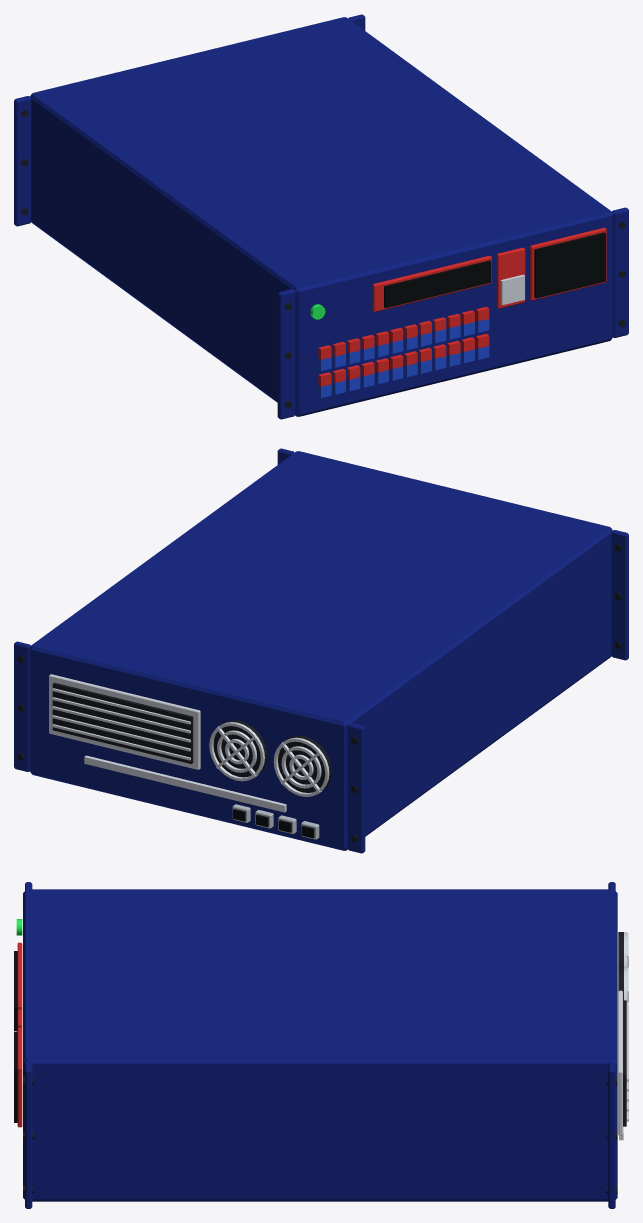
File: dc_server_blue.obj
3 views of the same model, one above another, from view 1: azimuth 30°, elevation 25°; view 2: azimuth 150°, elevation 25°; view 3: azimuth 270°, elevation 25° (orthographic). The views are drawn at different scales.
Visible parts, largest first — view 1: Server_Chassis_Body_Server_Blue_Chassis, Front_UI_And_Displays_OLED_Panel_Black, Front_Drive_Indicators_UI_Accent_Red, Front_Drive_Indicators_Indicator_Blue, Front_UI_And_Displays_UI_Accent_Red, Front_UI_And_Displays_Server_Silver_Grille; view 2: Server_Chassis_Body_Server_Blue_Chassis, Rear_Fans_And_Radiator_Server_Silver_Grille, Rear_Fans_And_Radiator_Server_Dark_Steel, Rear_Network_Ports_Server_Silver_Grille, Rear_Network_Ports_Network_Port_Shield, Rear_Network_Ports_OLED_Panel_Black; view 3: Server_Chassis_Body_Server_Blue_Chassis, Rear_Fans_And_Radiator_Server_Silver_Grille, Front_UI_And_Displays_UI_Accent_Red, Rear_Fans_And_Radiator_Server_Dark_Steel, Front_UI_And_Displays_OLED_Panel_Black.
Part boxes in pixels (left/top/right/bottom): Server_Chassis_Body_Server_Blue_Chassis: left=14, top=14, right=628, bottom=419; Front_UI_And_Displays_OLED_Panel_Black: left=384, top=232, right=605, bottom=308; Front_Drive_Indicators_UI_Accent_Red: left=318, top=306, right=489, bottom=386; Front_Drive_Indicators_Indicator_Blue: left=318, top=319, right=489, bottom=397; Front_UI_And_Displays_UI_Accent_Red: left=372, top=227, right=606, bottom=311; Front_UI_And_Displays_Server_Silver_Grille: left=500, top=274, right=524, bottom=305; Server_Chassis_Body_Server_Blue_Chassis: left=14, top=448, right=628, bottom=853; Rear_Fans_And_Radiator_Server_Silver_Grille: left=49, top=674, right=329, bottom=796; Rear_Fans_And_Radiator_Server_Dark_Steel: left=52, top=682, right=331, bottom=792; Rear_Network_Ports_Server_Silver_Grille: left=84, top=755, right=286, bottom=812; Rear_Network_Ports_Network_Port_Shield: left=232, top=804, right=319, bottom=839; Rear_Network_Ports_OLED_Panel_Black: left=233, top=809, right=314, bottom=838; Server_Chassis_Body_Server_Blue_Chassis: left=23, top=882, right=617, bottom=1208; Rear_Fans_And_Radiator_Server_Silver_Grille: left=618, top=932, right=628, bottom=1135; Front_UI_And_Displays_UI_Accent_Red: left=17, top=942, right=22, bottom=1127; Rear_Fans_And_Radiator_Server_Dark_Steel: left=618, top=932, right=626, bottom=1126; Front_UI_And_Displays_OLED_Panel_Black: left=14, top=951, right=17, bottom=1122.
Bounding box in the file's own units: 0.488 × 0.172 × 0.6725.
